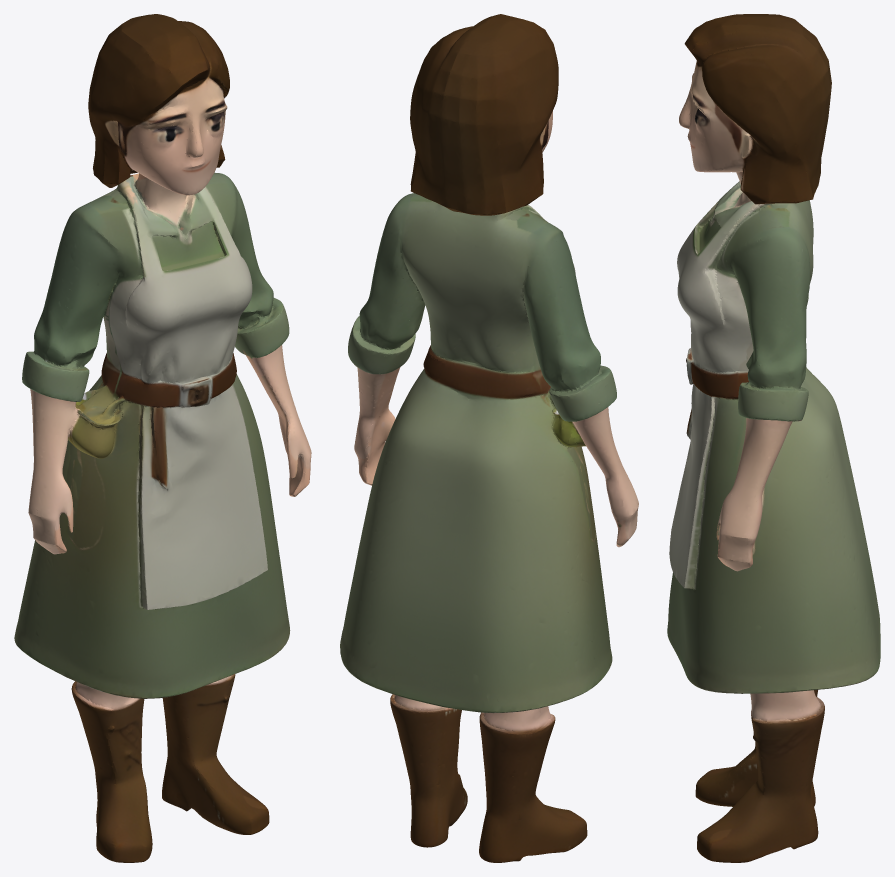
The model's file is base_basic_pbr.fbx.
3 views of the same model, side by side, from view 1: azimuth 30°, elevation 25°; view 2: azimuth 150°, elevation 25°; view 3: azimuth 270°, elevation 25° (orthographic).
Visible parts, largest first — view 1: model; view 2: model; view 3: model.
Part boxes in pixels (bbox=[...]): model: bbox=[14, 14, 311, 862]; model: bbox=[340, 14, 638, 862]; model: bbox=[667, 14, 880, 862].
Size of the model in its own units: 68.11 by 190 by 45.7.
1 material, 1 textured.
